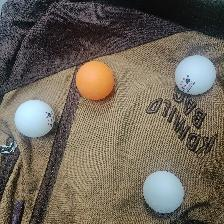WhiteBall: (142, 170, 183, 213), (174, 54, 215, 95), (14, 99, 54, 138)
YellowBall: (75, 60, 113, 99)
